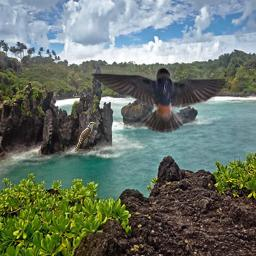Cuckoo: (74, 122, 96, 153)
Swallow: (86, 65, 229, 134)
